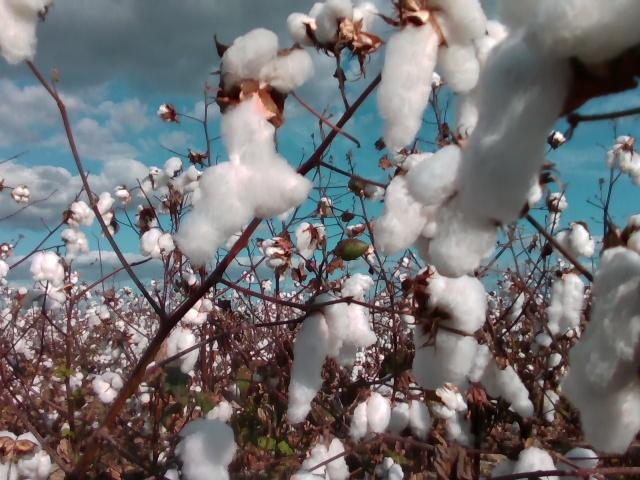cotton_ready: (457, 0, 640, 228), (174, 125, 310, 264), (562, 214, 640, 455), (372, 143, 501, 278), (380, 0, 483, 154), (289, 274, 379, 424), (218, 28, 313, 162), (411, 265, 488, 386), (439, 20, 507, 137), (472, 342, 535, 417), (287, 0, 377, 45), (181, 416, 236, 480), (488, 449, 600, 480), (0, 0, 49, 64), (297, 435, 352, 480), (0, 431, 50, 480), (545, 275, 585, 336), (433, 388, 470, 447), (350, 392, 391, 439), (159, 331, 199, 377), (606, 135, 640, 187), (395, 394, 431, 441), (294, 221, 326, 259), (175, 165, 202, 203), (256, 237, 288, 269), (555, 230, 595, 255), (30, 251, 64, 280), (141, 229, 172, 257), (183, 297, 214, 325), (95, 375, 124, 404), (62, 229, 87, 260), (66, 203, 94, 230), (527, 170, 546, 208)
